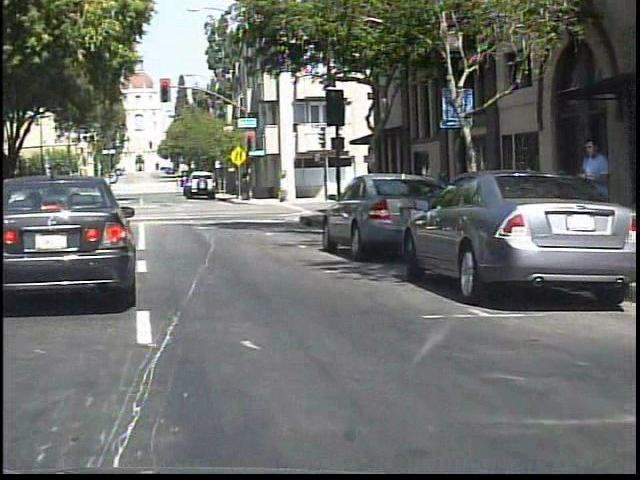person: (575, 135, 617, 266), (15, 173, 36, 209), (2, 175, 19, 211)
